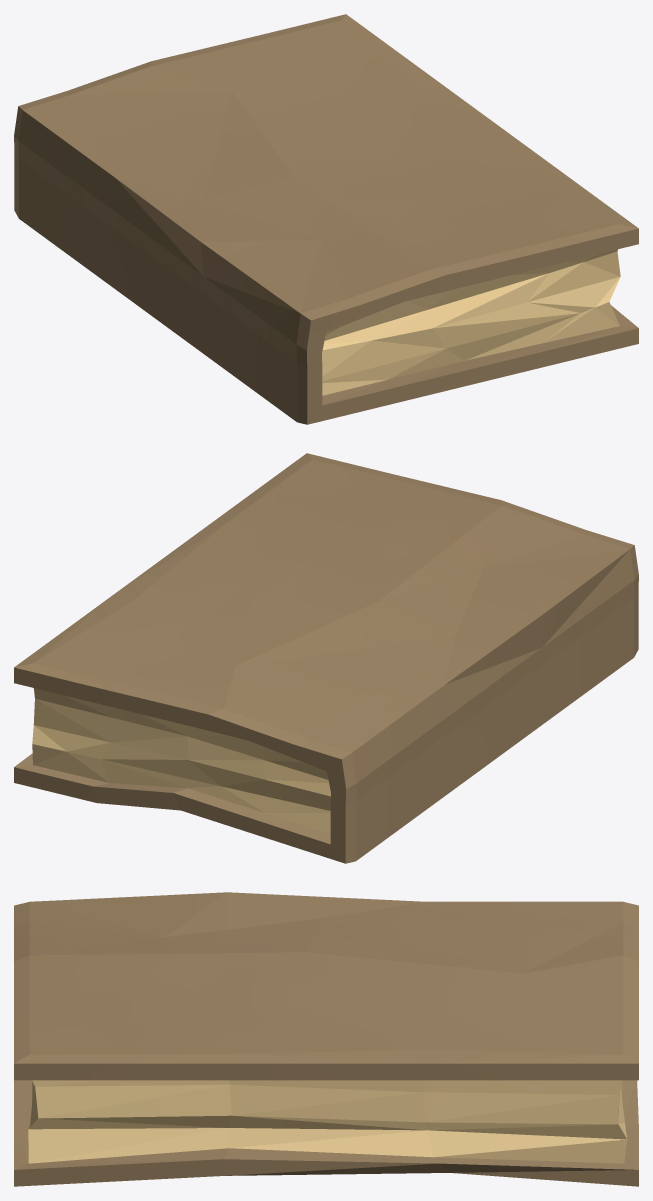
File: book_1.obj
The picture shows the model from 3 angles, top to bottom: view 1: azimuth 30°, elevation 25°; view 2: azimuth 150°, elevation 25°; view 3: azimuth 270°, elevation 25°; orthographic projection. The views are drawn at different scales.
Parts seen in each view (by area): view 1: book_1_Material; view 2: book_1_Material; view 3: book_1_Material.
Part boxes in pixels (x1,y1,x2,y2): book_1_Material: (14,14,638,424); book_1_Material: (14,453,638,863); book_1_Material: (14,892,638,1186).
Bounding box in the file's own units: 0.1416 × 0.0481 × 0.2125.
